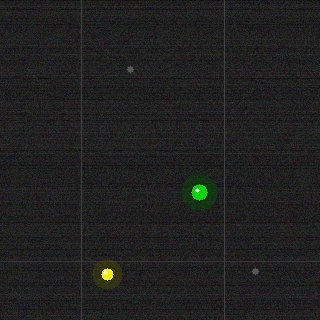green_normal: (189, 182, 209, 202)
yellow_warning: (99, 266, 115, 282)
